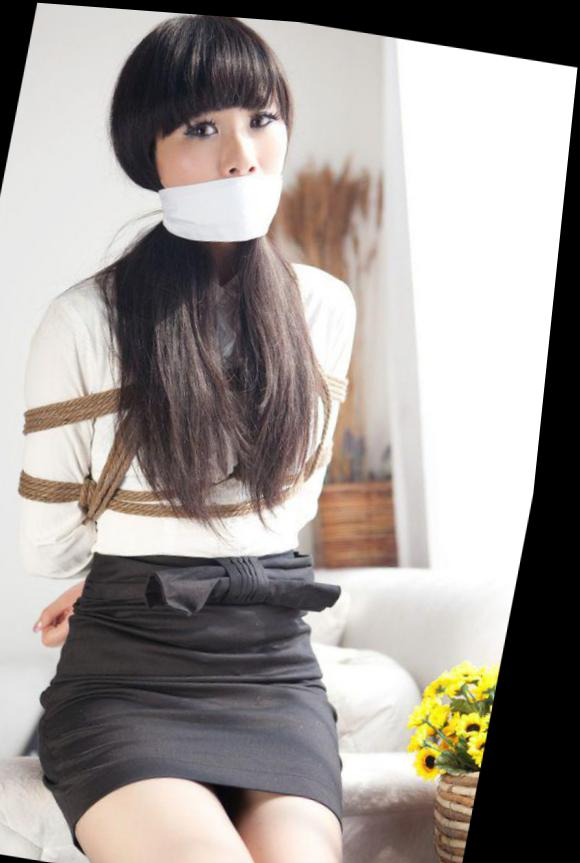WRONG: (141, 75, 305, 235)
